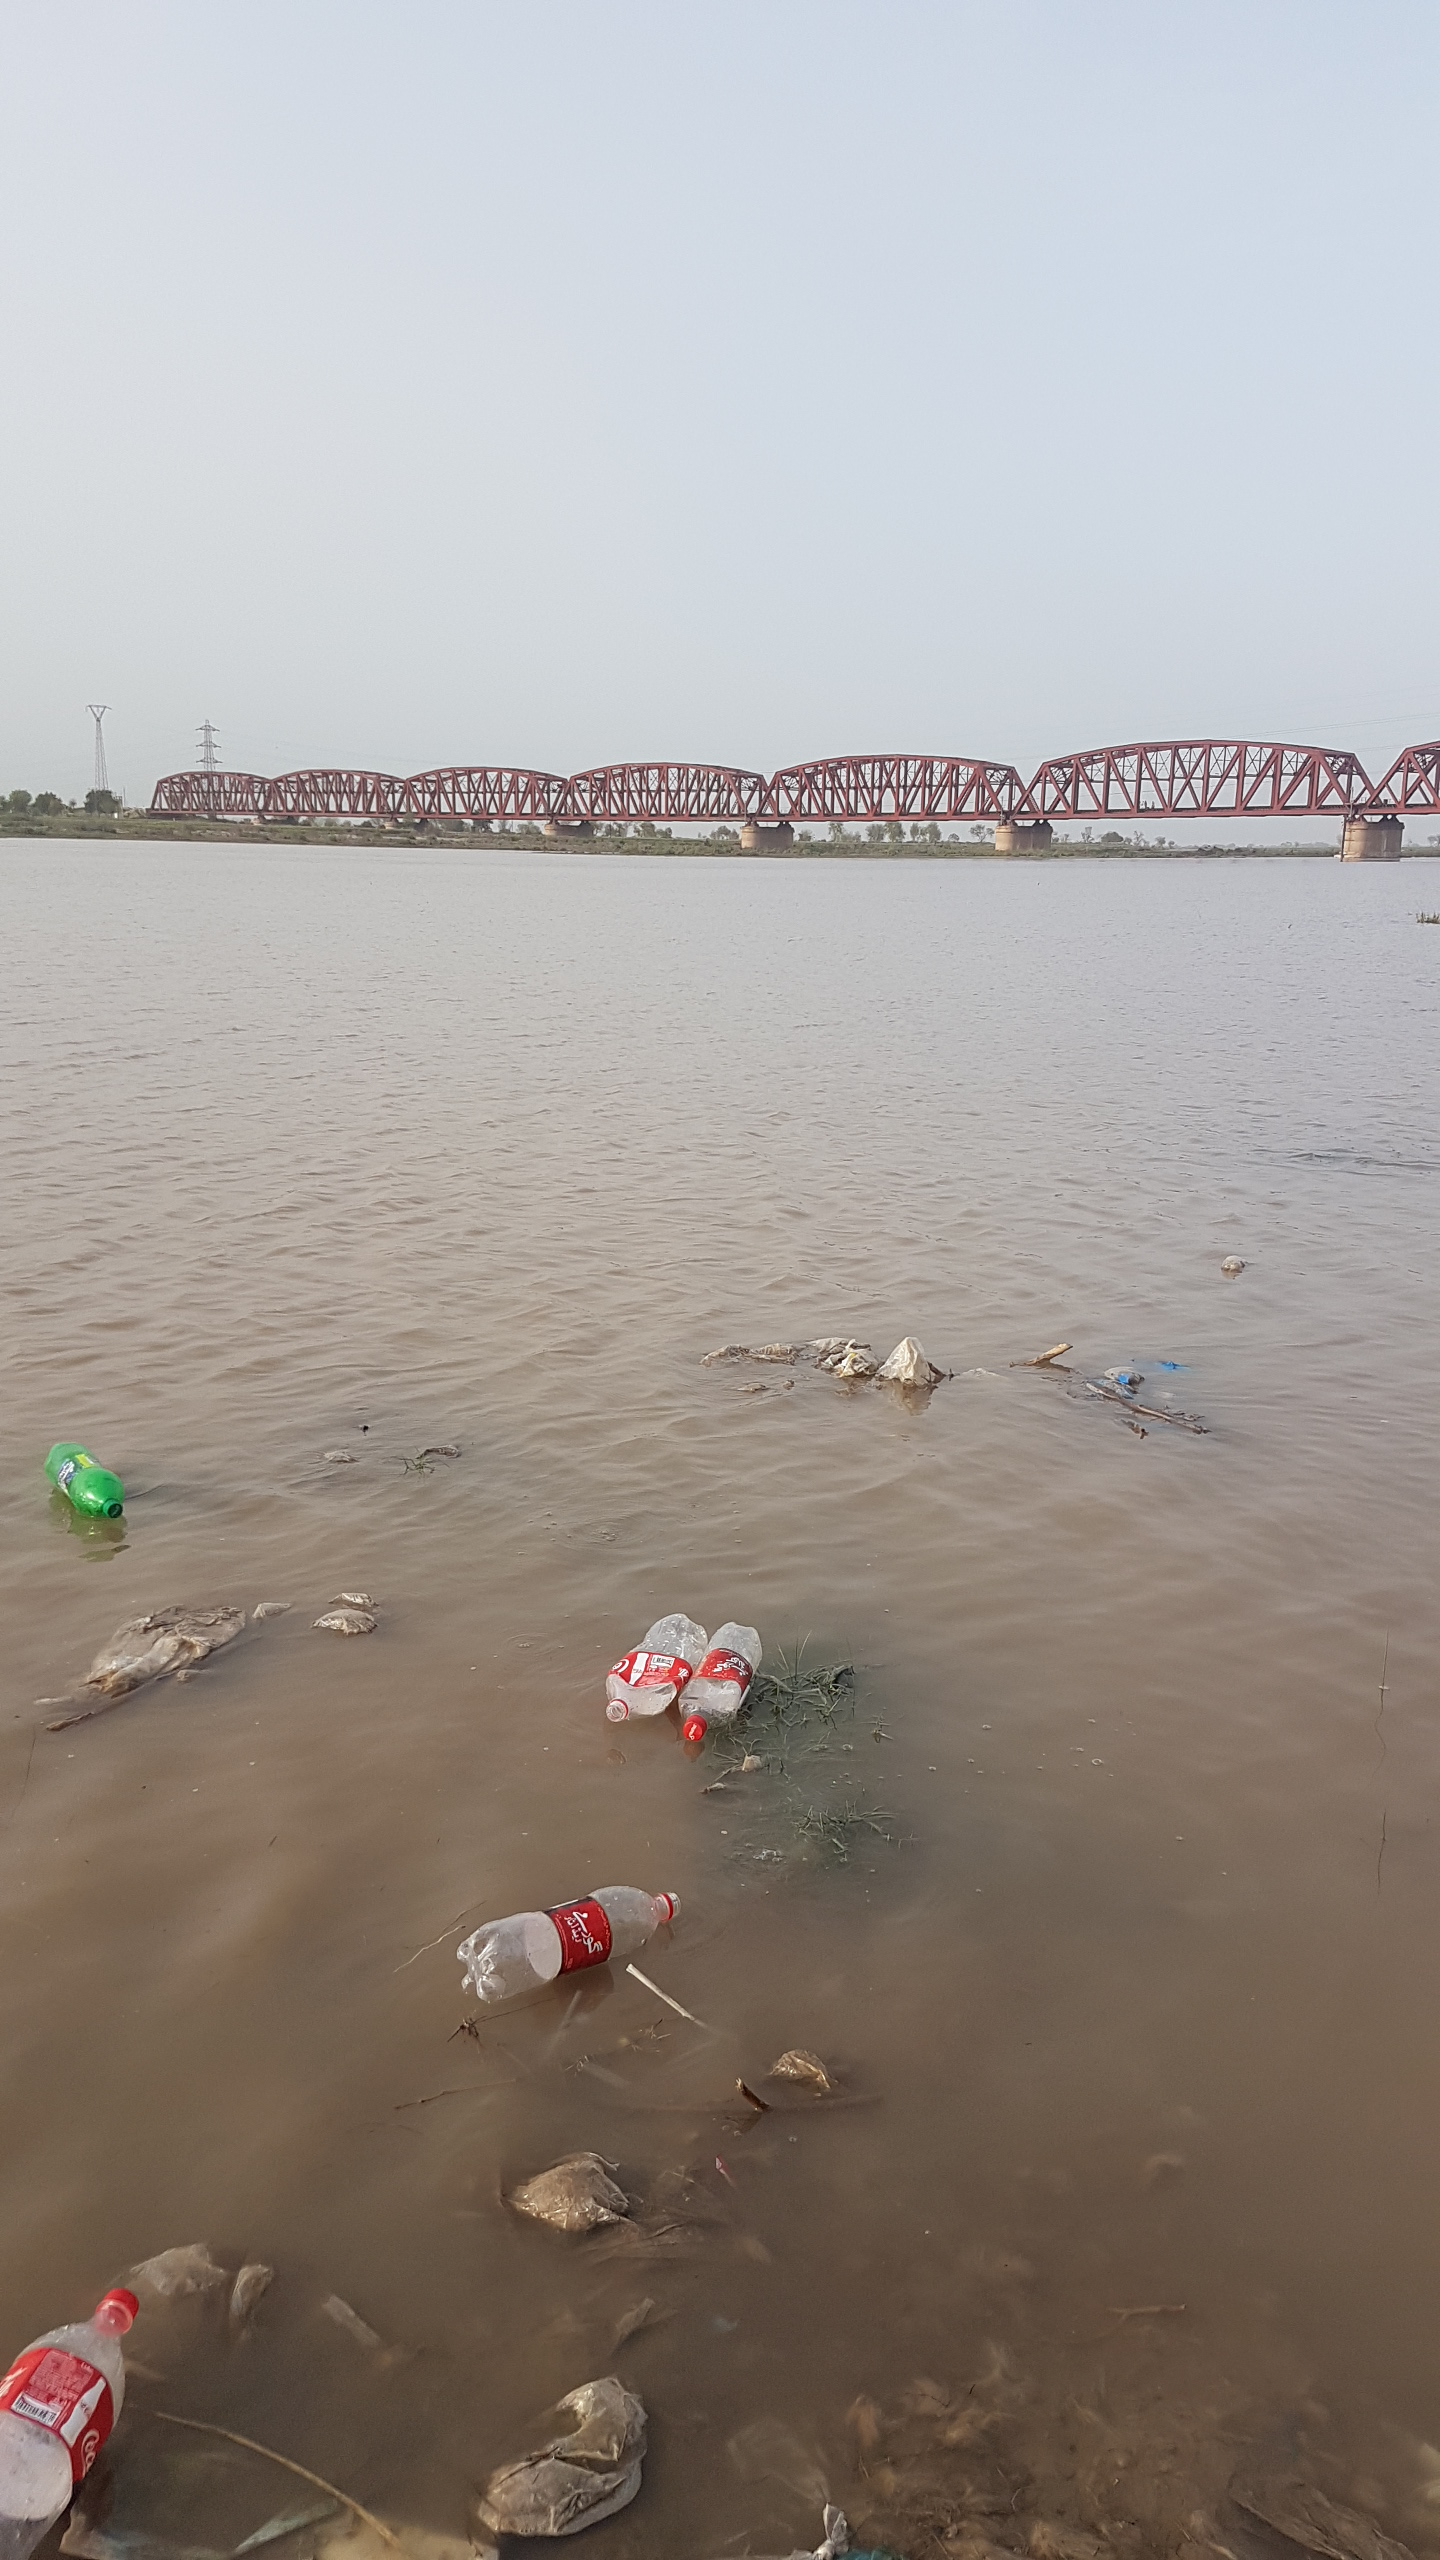Plastic Bottle: (2, 2287, 139, 2560), (455, 1885, 680, 2003), (605, 1612, 709, 1721), (675, 1623, 761, 1741), (44, 1442, 125, 1517)
